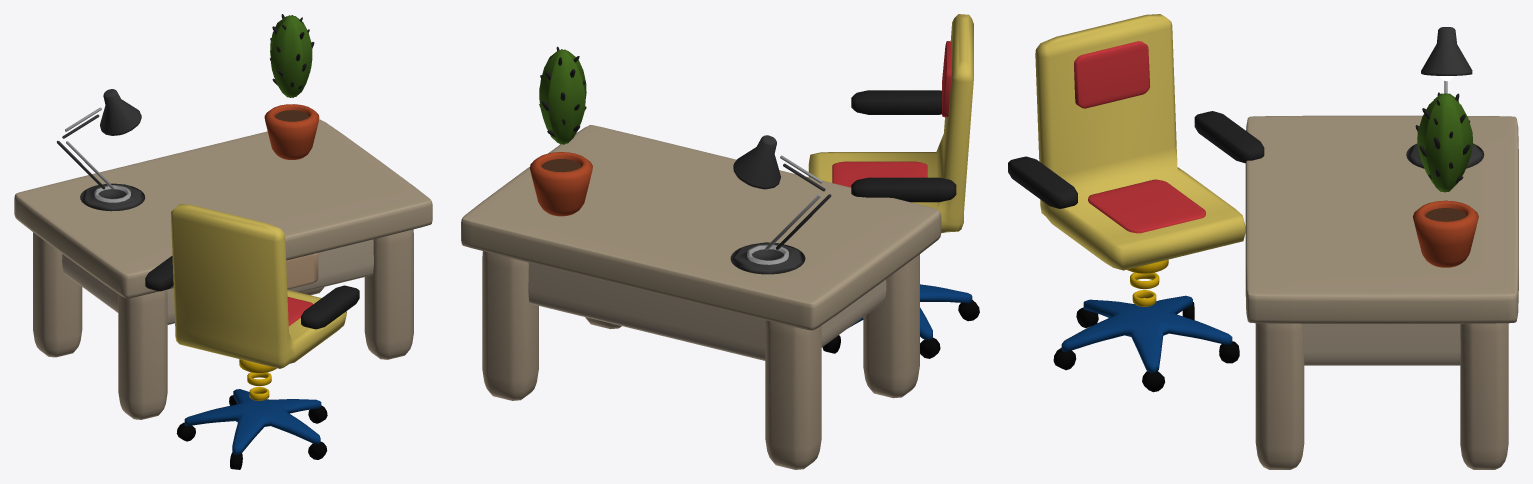
3 renders of one model, left to right at view 1: azimuth 30°, elevation 25°; view 2: azimuth 150°, elevation 25°; view 3: azimuth 270°, elevation 25°, orthographic. The views are drawn at different scales.
Parts seen in each view (by area): view 1: Wood_Table; view 2: Wood_Table; view 3: Wood_Table.
Boxes of the visible parts, left/top/right/bottom form: Wood_Table: left=14, top=14, right=432, bottom=469; Wood_Table: left=461, top=14, right=979, bottom=469; Wood_Table: left=1008, top=14, right=1518, bottom=469.
Size of the model in its own units: 1.37 by 1.23 by 1.63.
2 materials, 1 textured.
